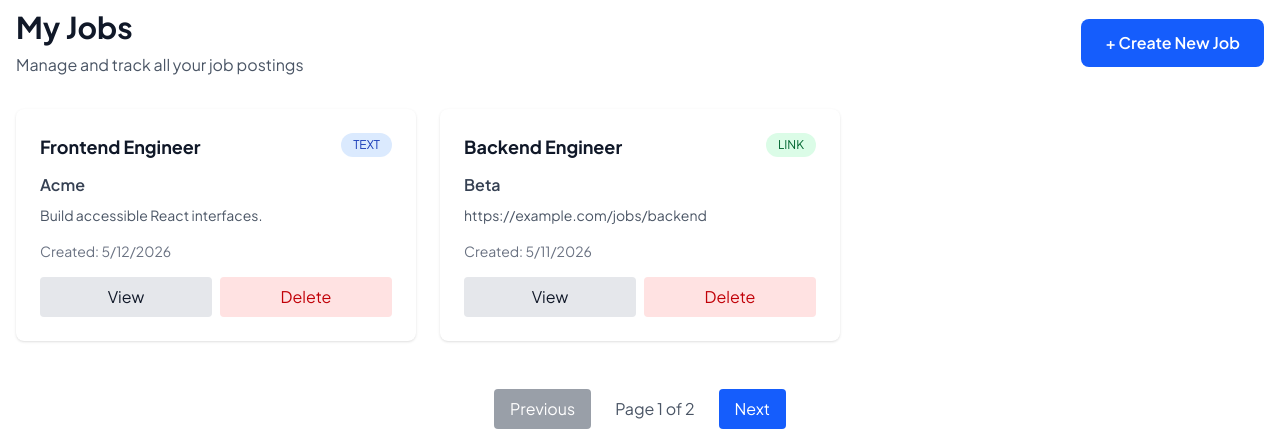
Test: JobsPageContent › deletes a job and removes it from the current list
This screenshot has width=1280, height=446.
Click the button "Delete" below "5/12/2026".
click(306, 297)  # box top-left (220, 277), bottom-right (392, 317)
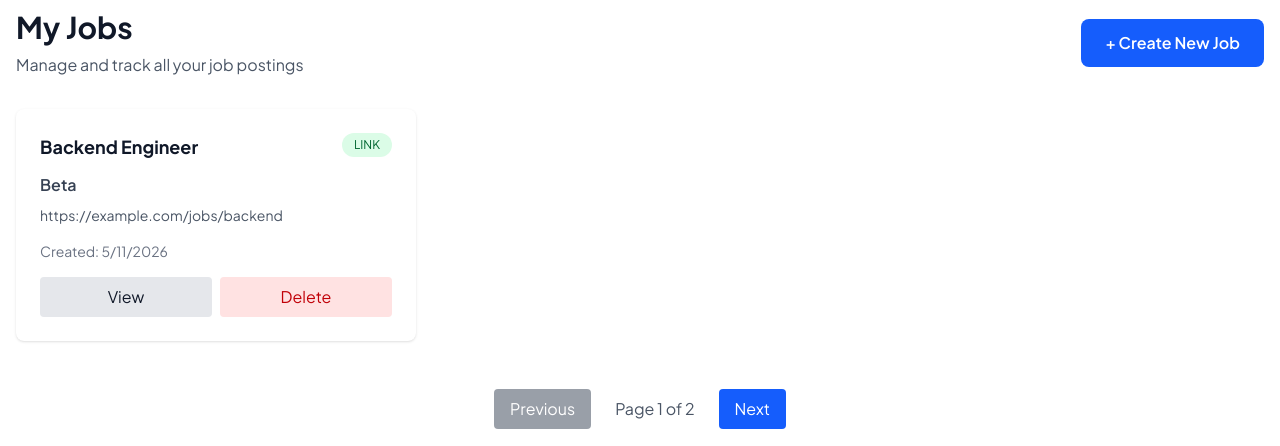
Expected: the heading "Backend Engineer" is shown, top-left (40, 133), bottom-right (198, 161)
Now the heading "Frontend Engineer" is gone
